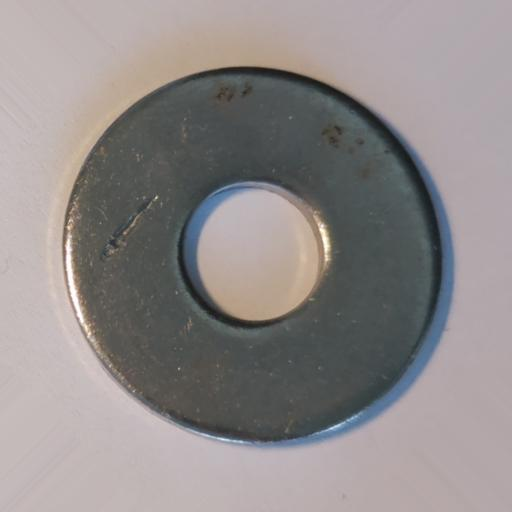scratch: (99, 194, 160, 260)
